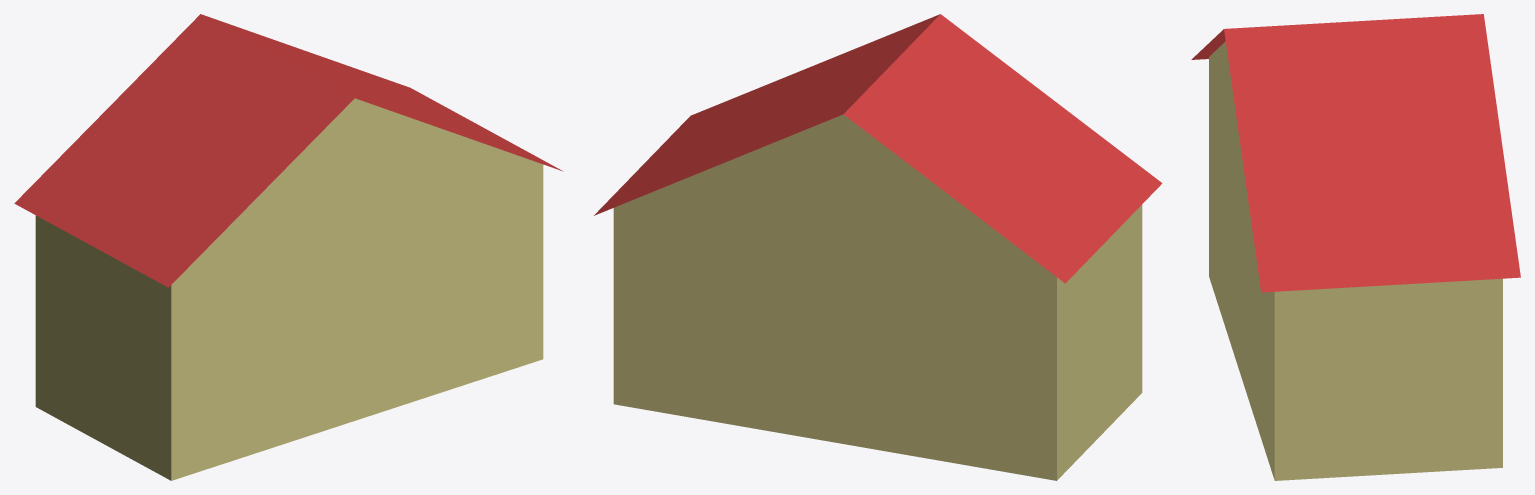
The picture shows the model from 3 angles, left to right: view 1: azimuth 30°, elevation 25°; view 2: azimuth 150°, elevation 25°; view 3: azimuth 270°, elevation 25°; orthographic projection. The views are drawn at different scales.
Size of the model in its own units: 17.36 by 10.39 by 11.95.
